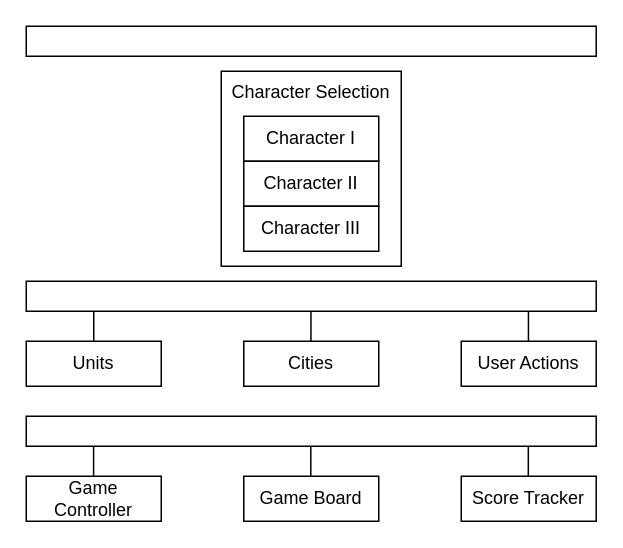
This 623x548 diagram has some shape labels left out. Here are the shapes that lost their labels. From the top down, the centre of each, then its label:
pixel 310 40: Main Menu
pixel 310 295: Game Interface
pixel 310 430: Stats
